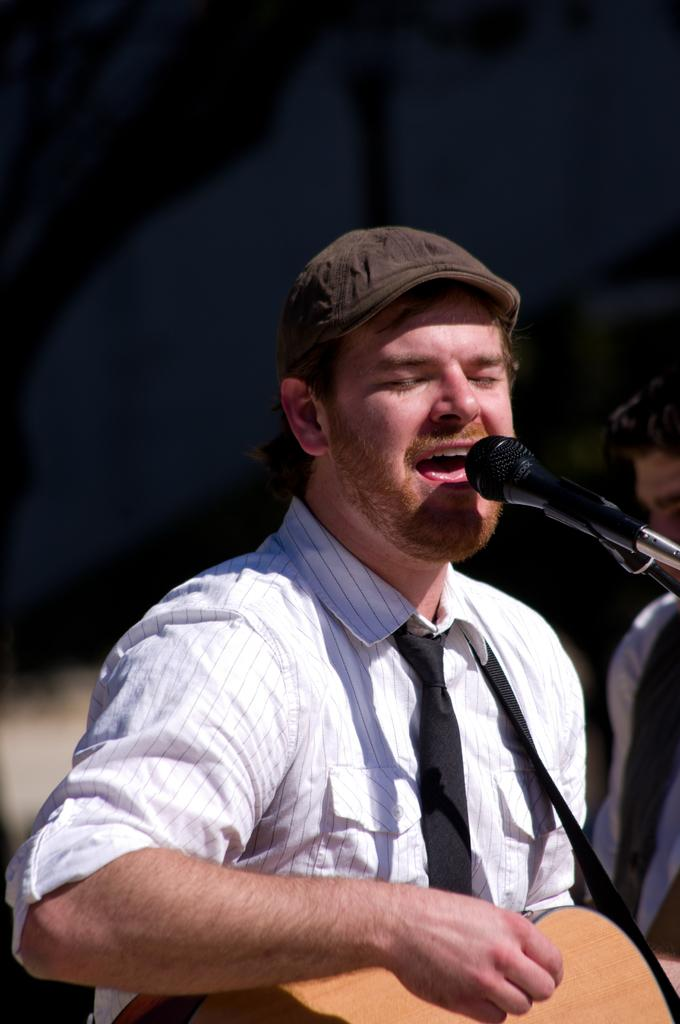Hat: (282, 224, 518, 360)
